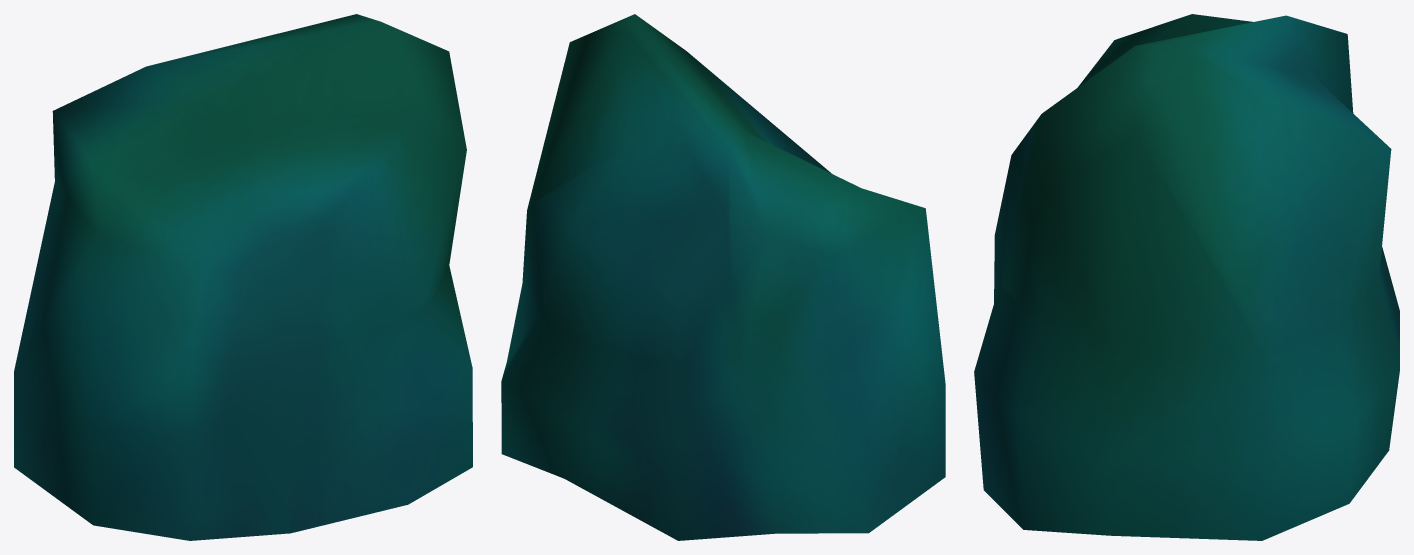
The model's file is boulder_03.fbx.
3 views of the same model, side by side, from view 1: azimuth 30°, elevation 25°; view 2: azimuth 150°, elevation 25°; view 3: azimuth 270°, elevation 25° (orthographic). The views are drawn at different scales.
Parts seen in each view (by area): view 1: polySurface220; view 2: polySurface220; view 3: polySurface220.
Boxes of the visible parts, bbox=[...] form: polySurface220: bbox=[14, 14, 472, 540]; polySurface220: bbox=[501, 14, 945, 540]; polySurface220: bbox=[974, 14, 1399, 540].
Size of the model in its own units: 41.52 by 44.17 by 36.47.
